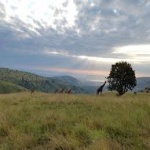Uncultivated: (3, 90, 149, 148)
